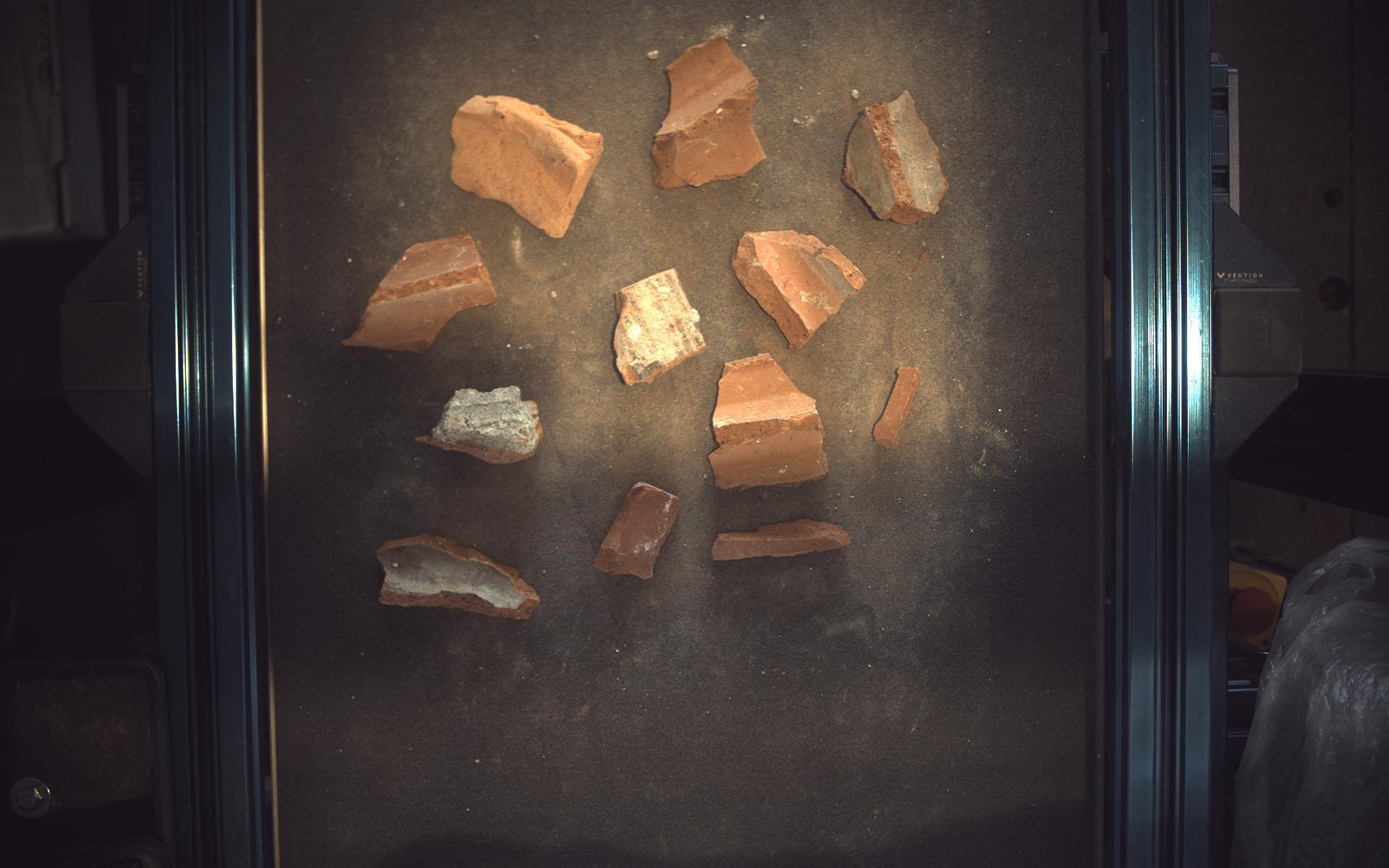brick: (451, 95, 603, 238), (342, 234, 496, 352), (652, 35, 766, 187), (710, 353, 830, 490), (734, 229, 867, 348), (844, 90, 950, 224), (376, 535, 540, 620), (614, 268, 707, 385), (417, 386, 543, 464), (595, 482, 681, 579), (713, 519, 852, 561), (875, 366, 922, 448)
